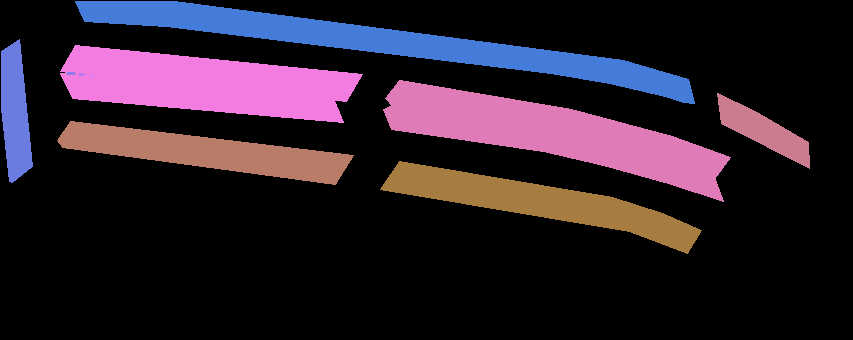parkingspot: (75, 1, 694, 103), (385, 80, 730, 179), (383, 105, 723, 201), (380, 161, 701, 253), (57, 121, 353, 184), (60, 45, 362, 101), (60, 73, 343, 122), (717, 93, 809, 168), (1, 39, 32, 182)
